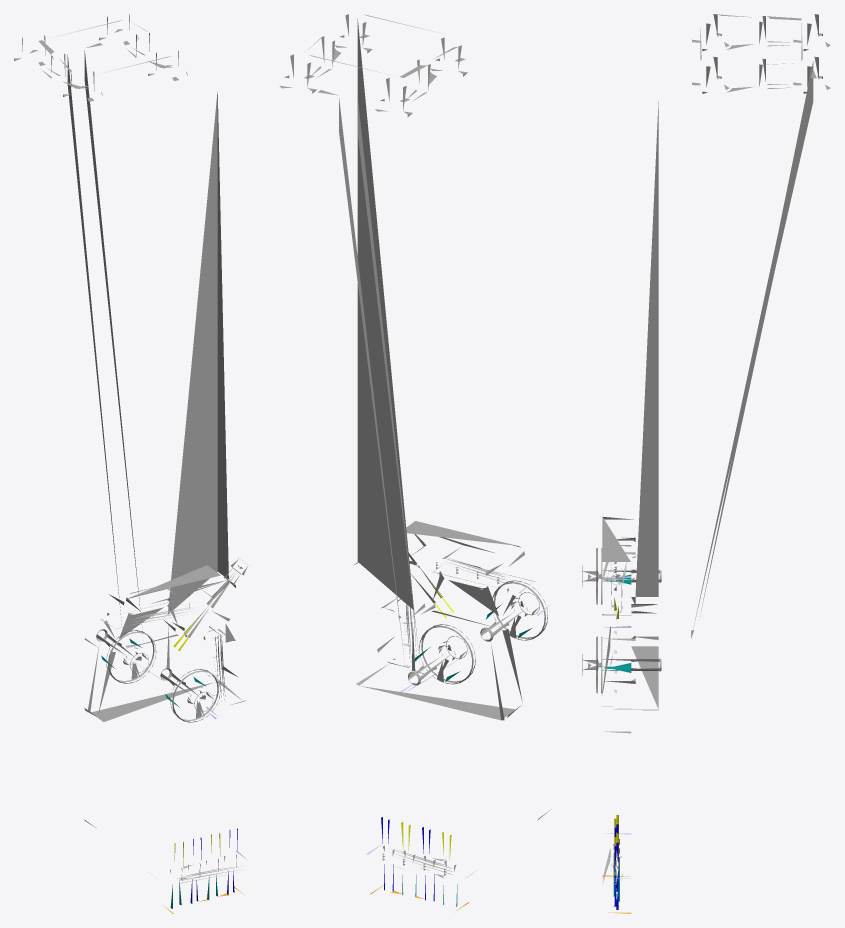
3 views of the same model, side by side, from view 1: azimuth 30°, elevation 25°; view 2: azimuth 150°, elevation 25°; view 3: azimuth 270°, elevation 25° (orthographic). The views are drawn at different scales.
Parts seen in each view (by area): view 1: F19721000063102000134_001_sym_of_zb_ub_auflage_33_fa (×2); view 2: F19721000063102000134_001_sym_of_zb_ub_auflage_33_fa (×2); view 3: F19721000063102000134_001_sym_of_zb_ub_auflage_33_fa (×2).
Boxes of the visible parts, x1,y1,x2,y2 form: F19721000063102000134_001_sym_of_zb_ub_auflage_33_fa (×2): (14,14,247,883); F19721000063102000134_001_sym_of_zb_ub_auflage_33_fa (×2): (279,14,547,878); F19721000063102000134_001_sym_of_zb_ub_auflage_33_fa (×2): (582,14,830,884).
Size of the model in its own units: 130 by 172 by 640.
